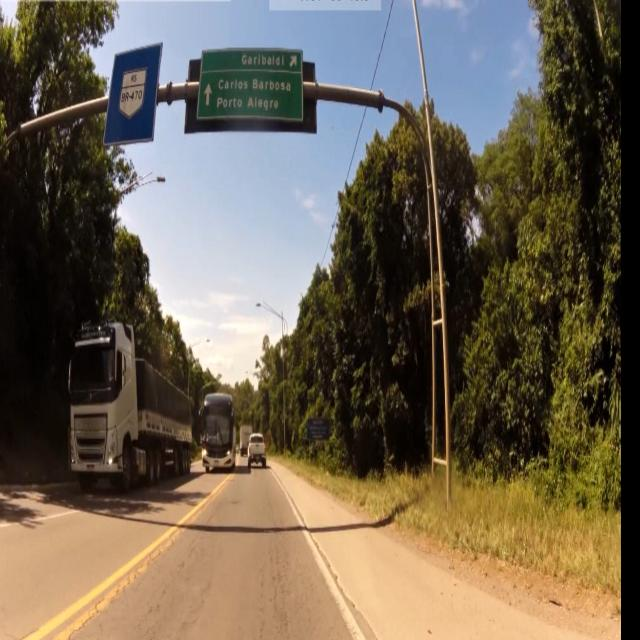I-4: (203, 50, 301, 121)
